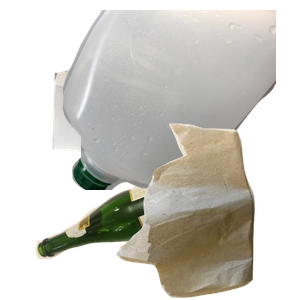glass: (33, 158, 246, 300)
paper: (50, 61, 257, 211)
plastic: (60, 10, 300, 190)
trash: (114, 121, 300, 300)
